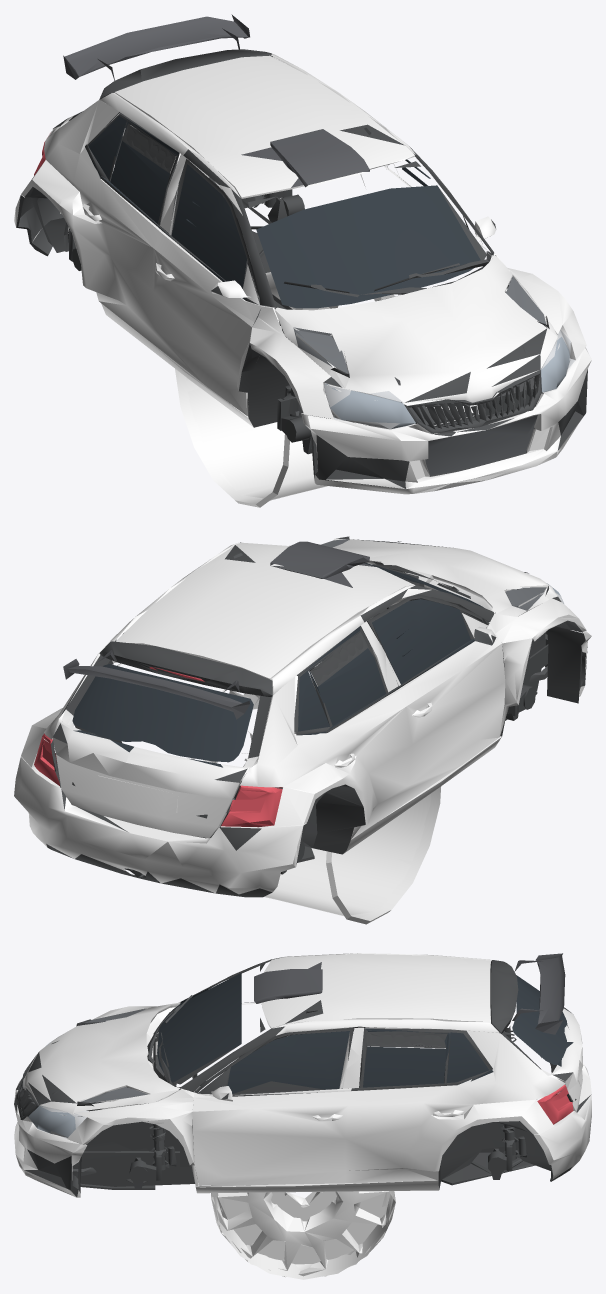
The model's file is skoda_rally_park.glb.
The picture shows the model from 3 angles, top to bottom: view 1: azimuth 30°, elevation 25°; view 2: azimuth 150°, elevation 25°; view 3: azimuth 270°, elevation 25°; orthographic projection. The views are drawn at different scales.
Parts seen in each view (by area): view 1: lod0, rim2, rim0, rim1; view 2: lod0, rim2, rim0, rim1; view 3: lod0, rim0, rim1, rim2.
Boxes of the visible parts, x1,y1,x2,y2 form: lod0: [14, 14, 591, 494]; rim2: [186, 275, 329, 499]; rim0: [175, 294, 394, 507]; rim1: [185, 272, 327, 499]; lod0: [14, 536, 591, 897]; rim2: [265, 684, 430, 915]; rim0: [190, 689, 441, 924]; rim1: [286, 681, 431, 918]; lod0: [14, 953, 591, 1197]; rim0: [211, 1184, 395, 1277]; rim1: [213, 1185, 393, 1279]; rim2: [218, 1184, 388, 1279].
Size of what is drawn, in the model's own units: 1.82 by 2.07 by 3.99.
